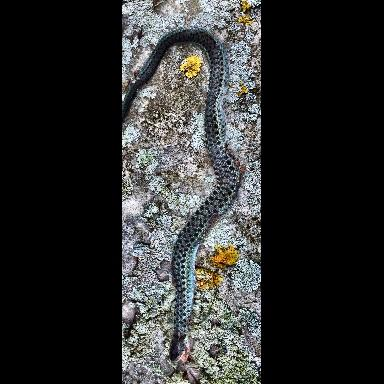snake: (132, 28, 245, 368)
